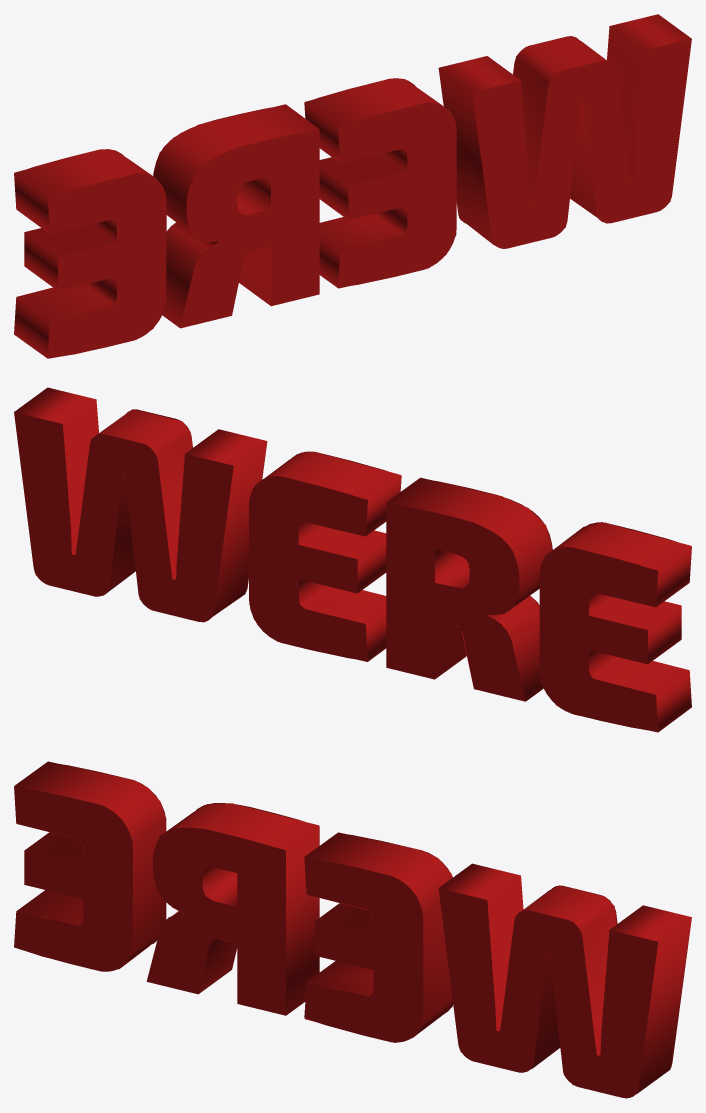
Rendered from were.fbx.
3 views of the same model, one above another, from view 1: azimuth 30°, elevation 25°; view 2: azimuth 150°, elevation 25°; view 3: azimuth 330°, elevation 25° (orthographic).
Visible parts, largest first — view 1: Text; view 2: Text; view 3: Text.
Part boxes in pixels (<box>): Text: <box>14,14,691,358</box>; Text: <box>14,387,691,732</box>; Text: <box>14,761,691,1098</box>.
Size of the model in its own units: 8.84 by 2.21 by 0.8.
